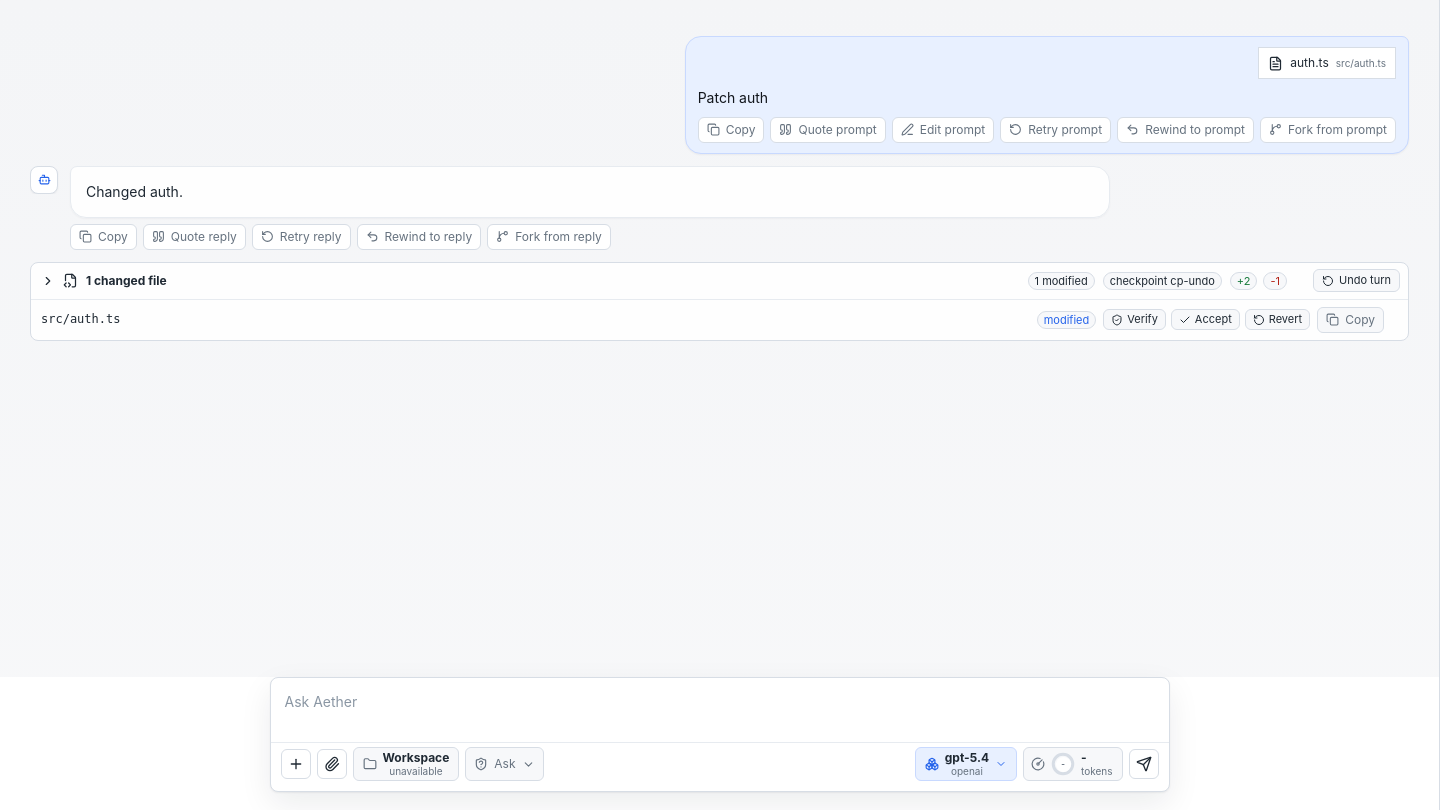
ChatView › undoes a checkpoint-backed turn and returns its prompt to the composer
The width and height of the screenshot is (1440, 810).
Expected: the text "Changed auth." is shown, [86,183,183,200]
Click the button "Undo turn" at (1356, 281), box [1313,269,1400,292]
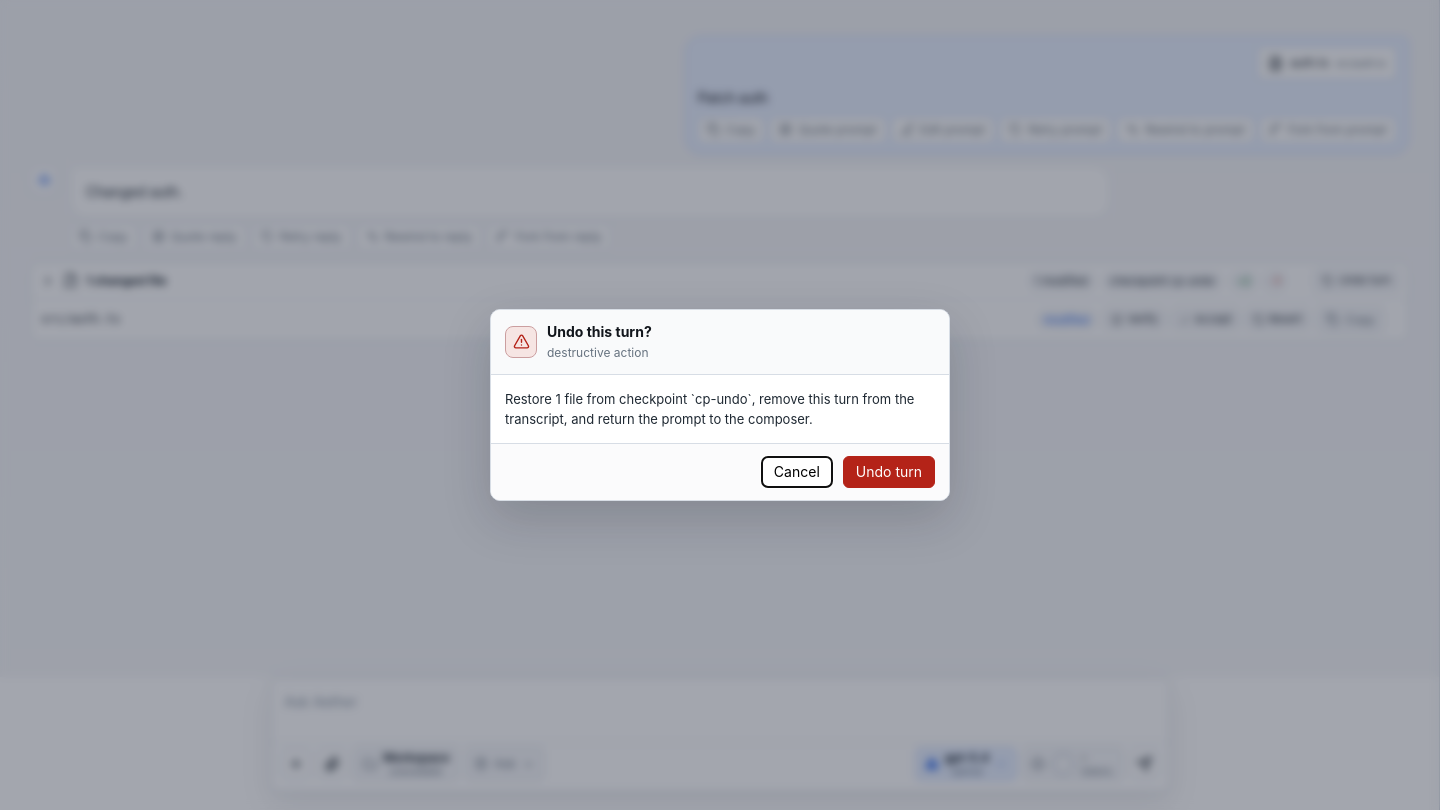
Click the button "Undo turn" at (889, 472), box [843,456,935,488]
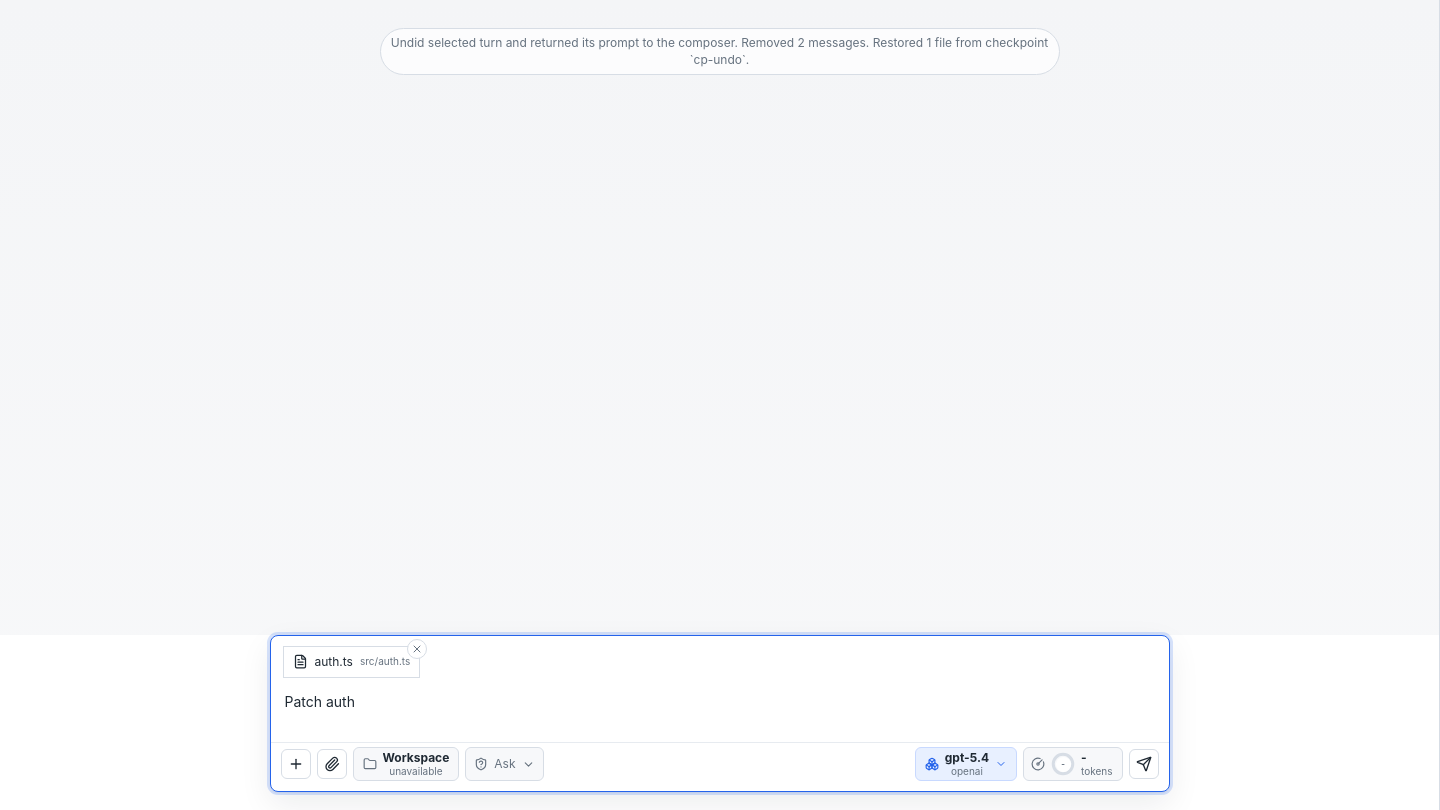
Result: the text "Restored 1 file from checkpoint `cp-undo`" is shown at [391,35,1048,67]
Result: the text box holds "Patch auth" at [270,678,1168,742]
